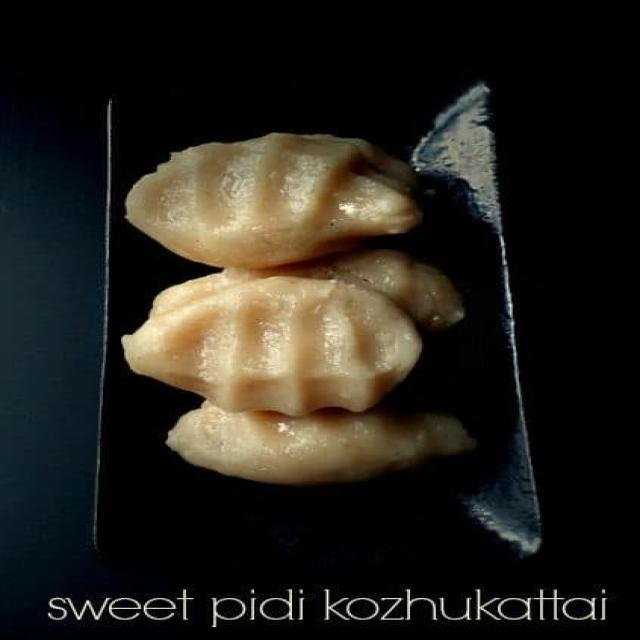pidi kolukattai: (112, 77, 481, 519)
